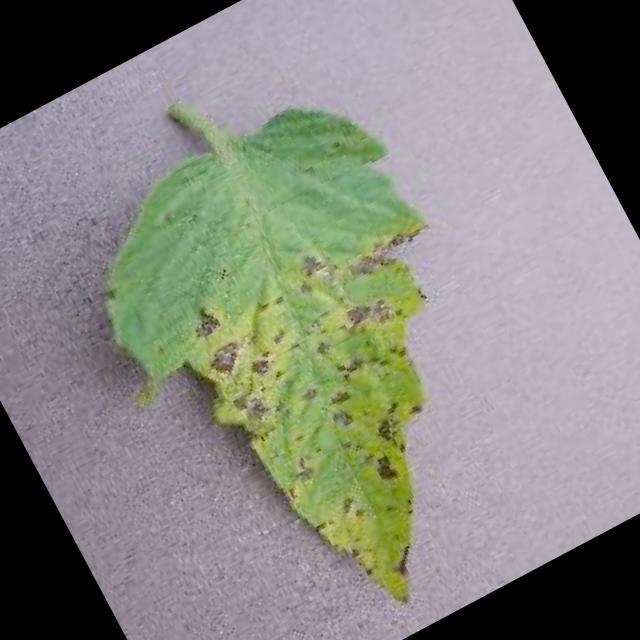Tomato Septoria spot leaf: (53, 71, 582, 640)
